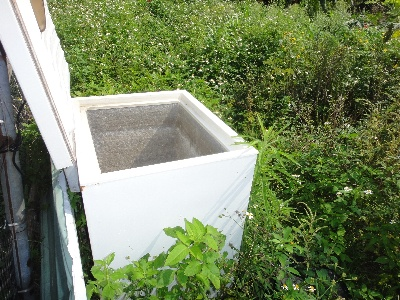box: (70, 88, 259, 300)
